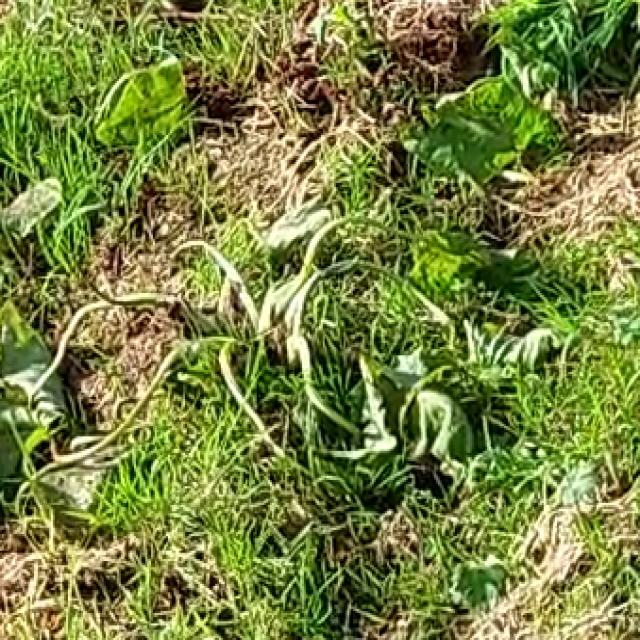organic waste: (0, 62, 595, 536)
